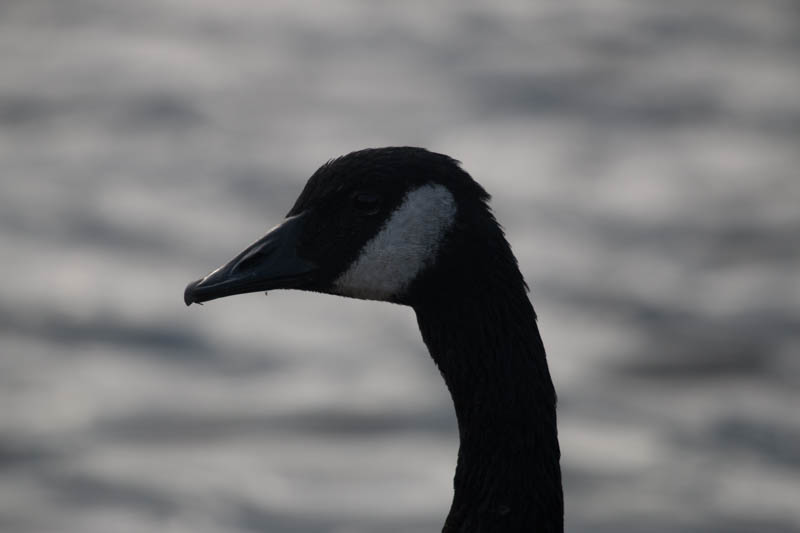goose-head: (183, 146, 493, 307)
